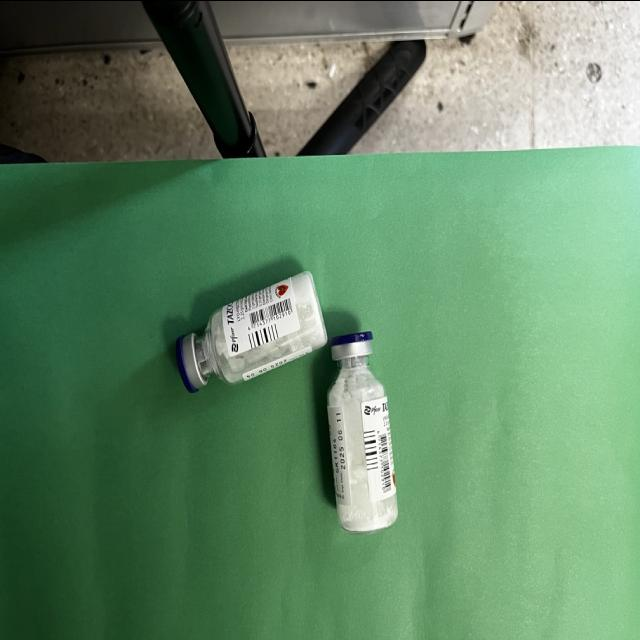Vials: (176, 271, 398, 531)
